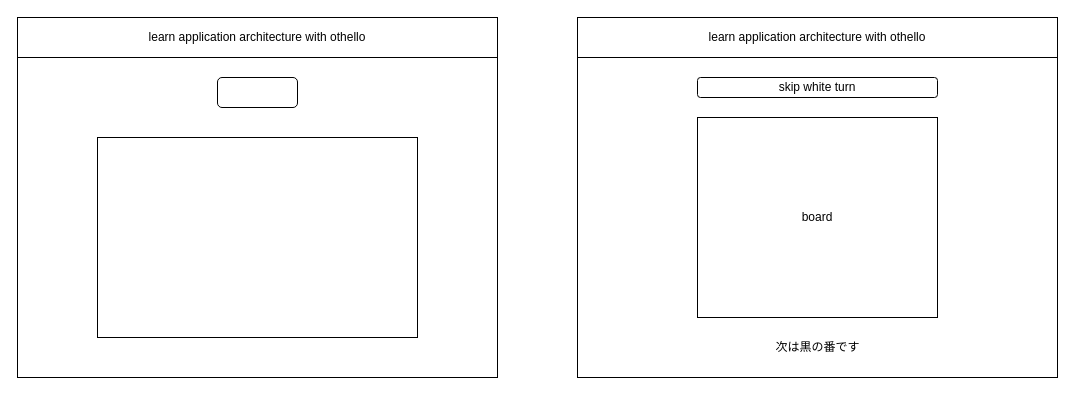
Some shapes in this 1075 by 395 pixel diagram are drawn without their labels. Here are the shapes that lost their labels. From the top down, the box of each, then its label:
(216, 76, 298, 108): game start
(96, 136, 418, 338): game history
